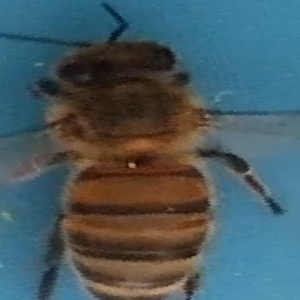bee: (3, 4, 287, 300)
